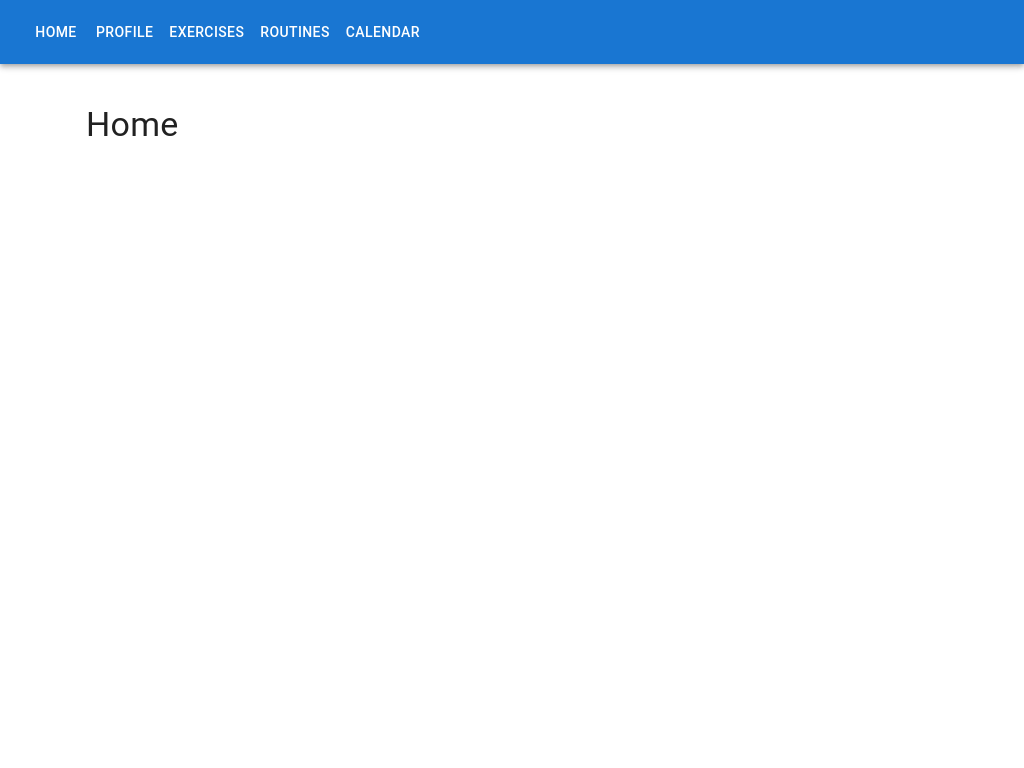
Test: Calendar › add meal successfully
The width and height of the screenshot is (1024, 768).
Click the link "Calendar".
click(383, 32)  # box [346,24,420,40]
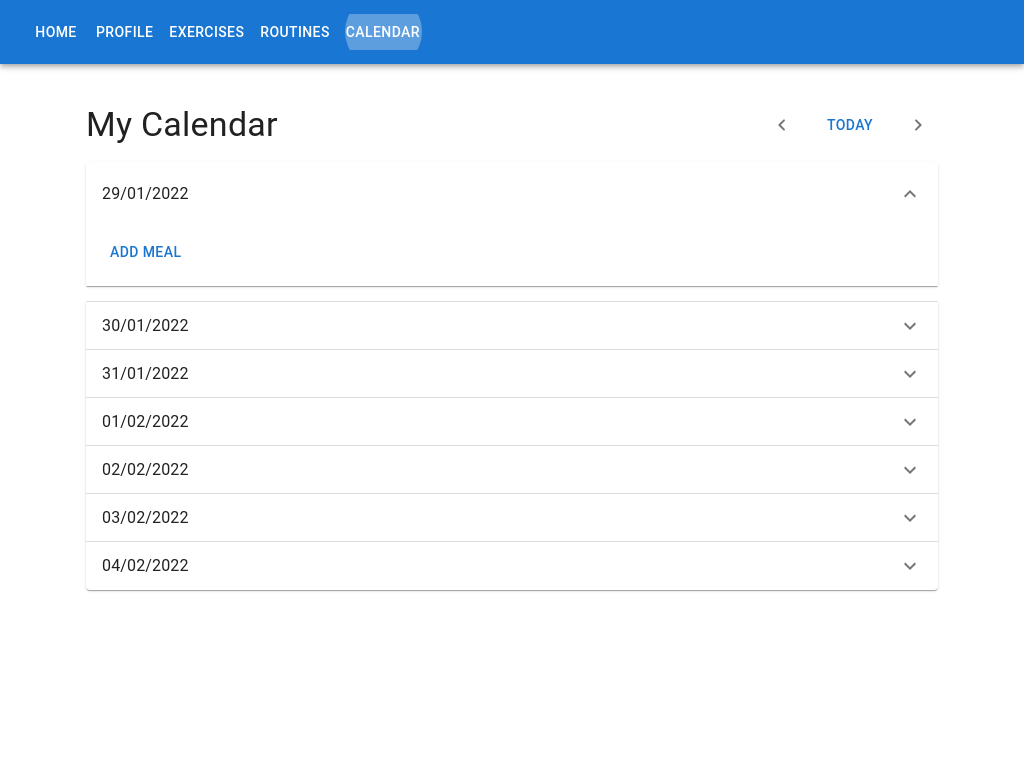
Expected: the heading "My Calendar" is shown, [86,104,278,146]
Click the button "Add meal".
click(146, 253)  # box [102,234,189,271]
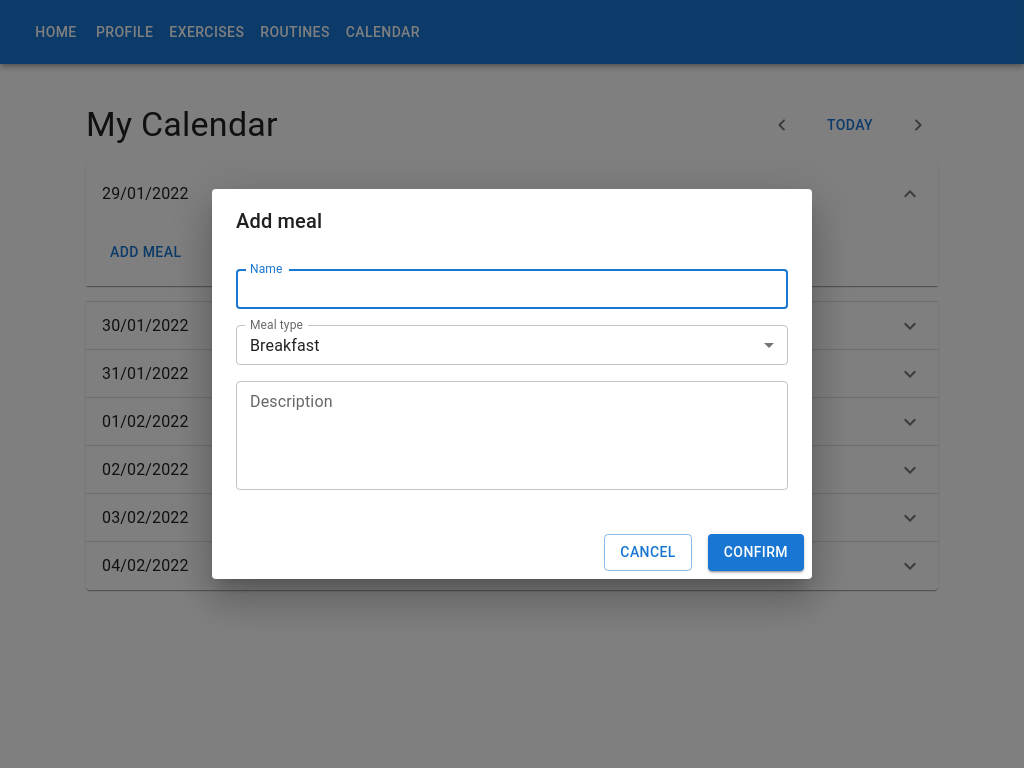
Type "Roasted chicken" into the field labelled "Name".
click(512, 289); type("Roasted chicken")  # box [236,269,788,309]
Click the dropdown named "meal type".
click(285, 346)  # box [250,336,320,355]
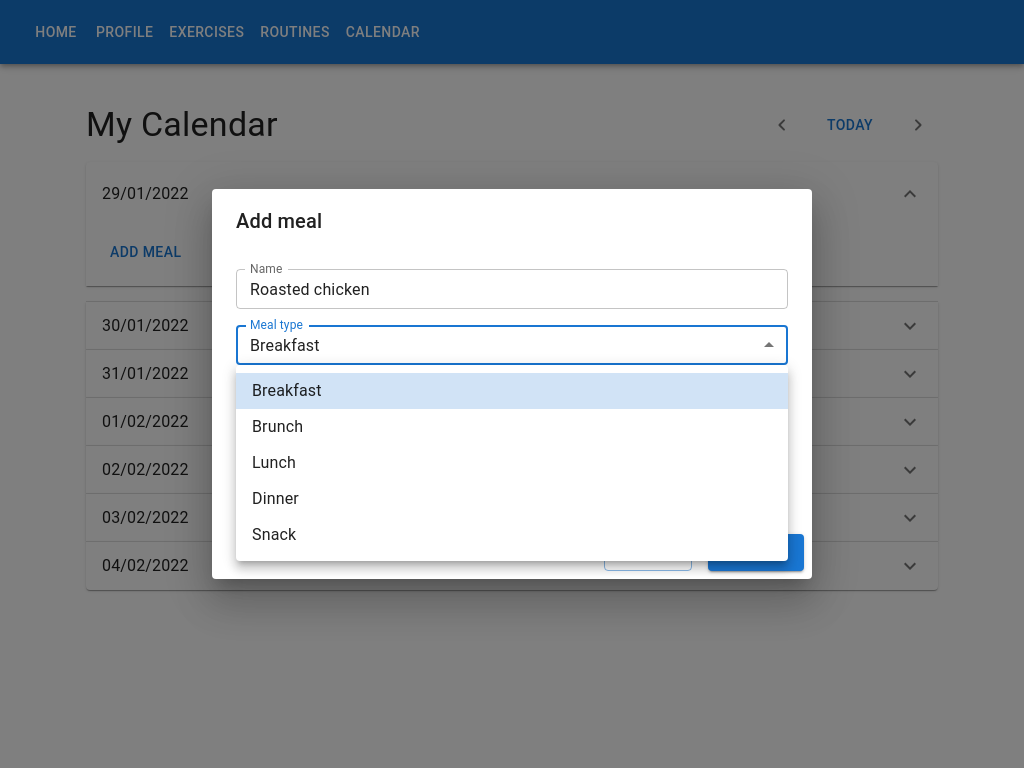
Click the option "Dinner".
click(276, 499)  # box [252,489,299,508]
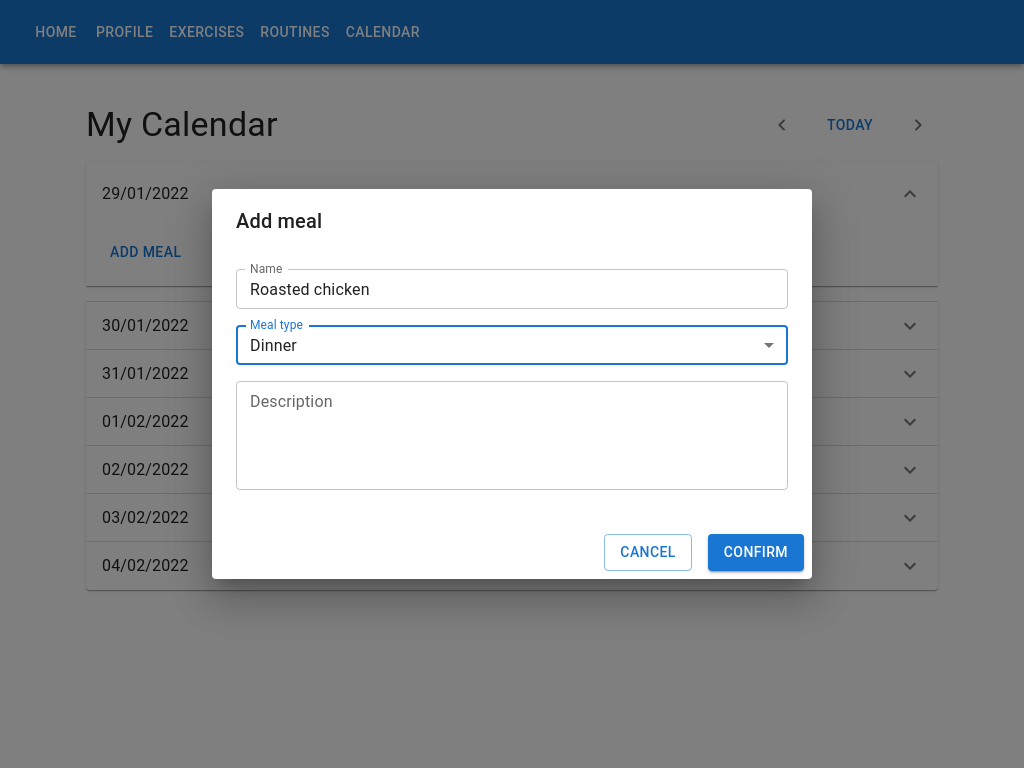
Type "Lemon and thyme marinated chicken roasted with veggies." into the text box labelled "Description".
click(512, 436); type("Lemon and thyme marinated chicken roasted with veggies.")  # box [250,390,774,482]
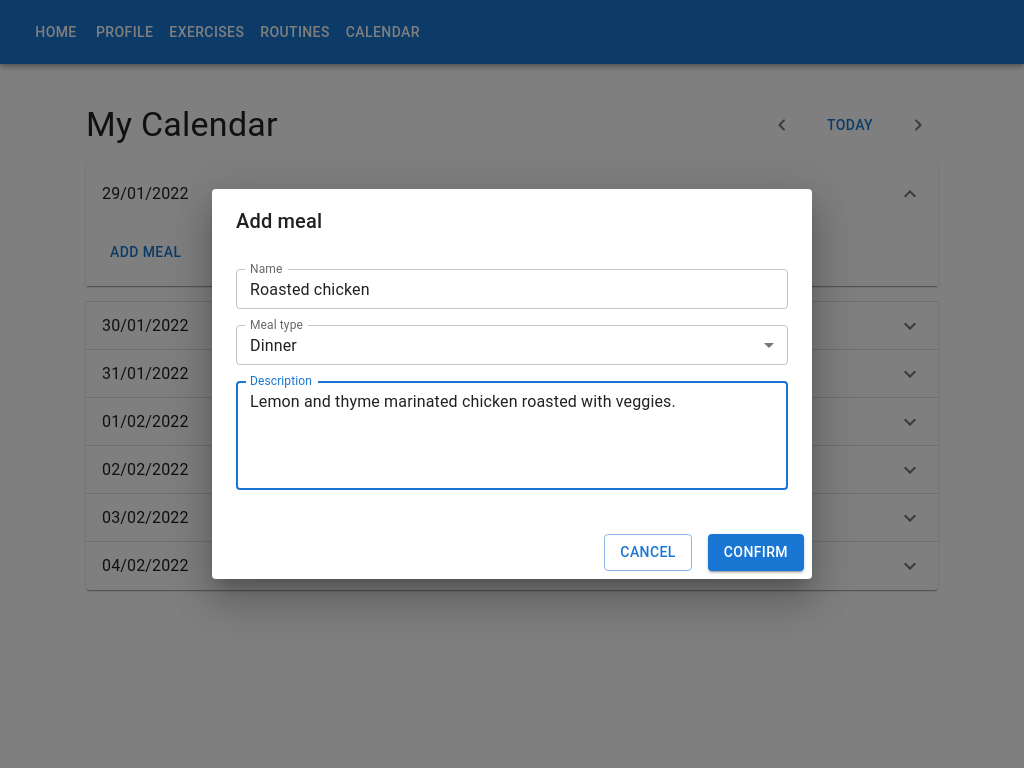
Click the button "Confirm".
click(756, 553)  # box [708,534,804,571]
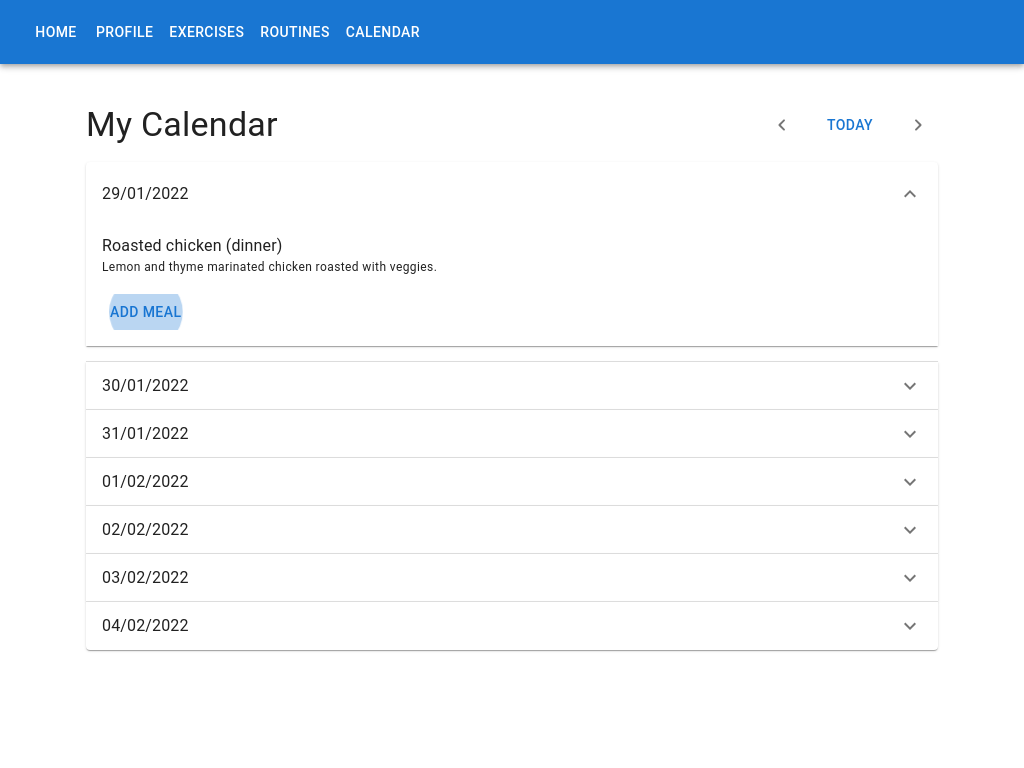
Expected: the text "Lemon and thyme marinated chicken roasted with veggies." is shown, [102,258,437,278]
Expected: the button "Confirm" is gone
